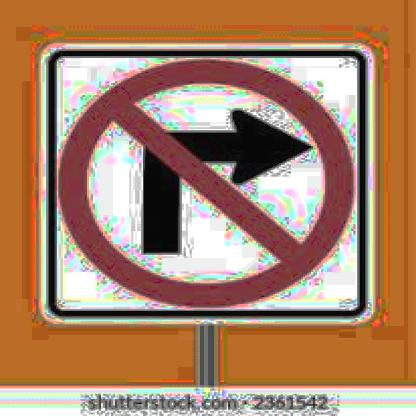No right turn: (61, 58, 358, 308)
